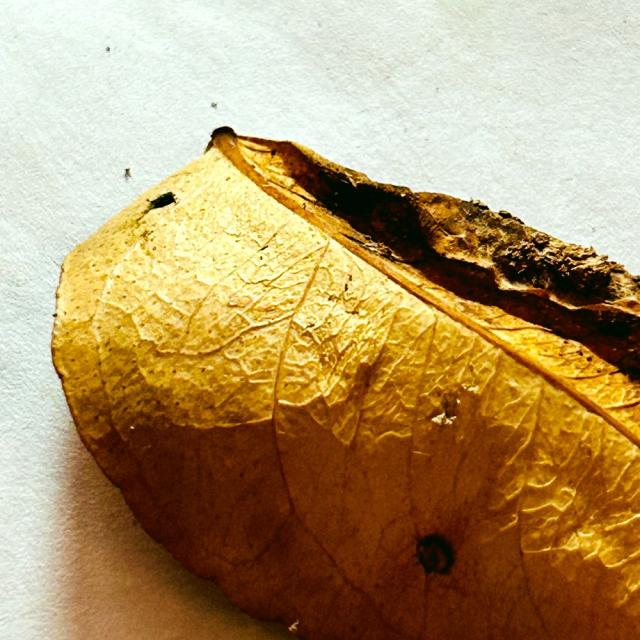DryLeaf_Lemon: (52, 127, 639, 639)
